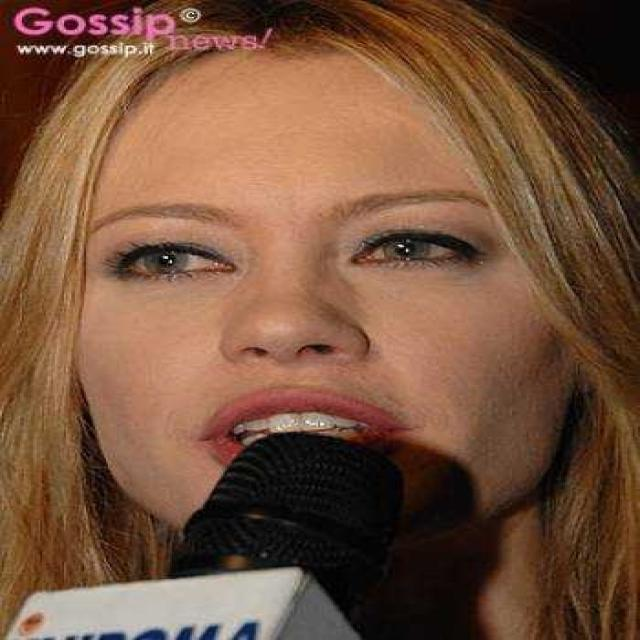microphone: (162, 427, 412, 640)
